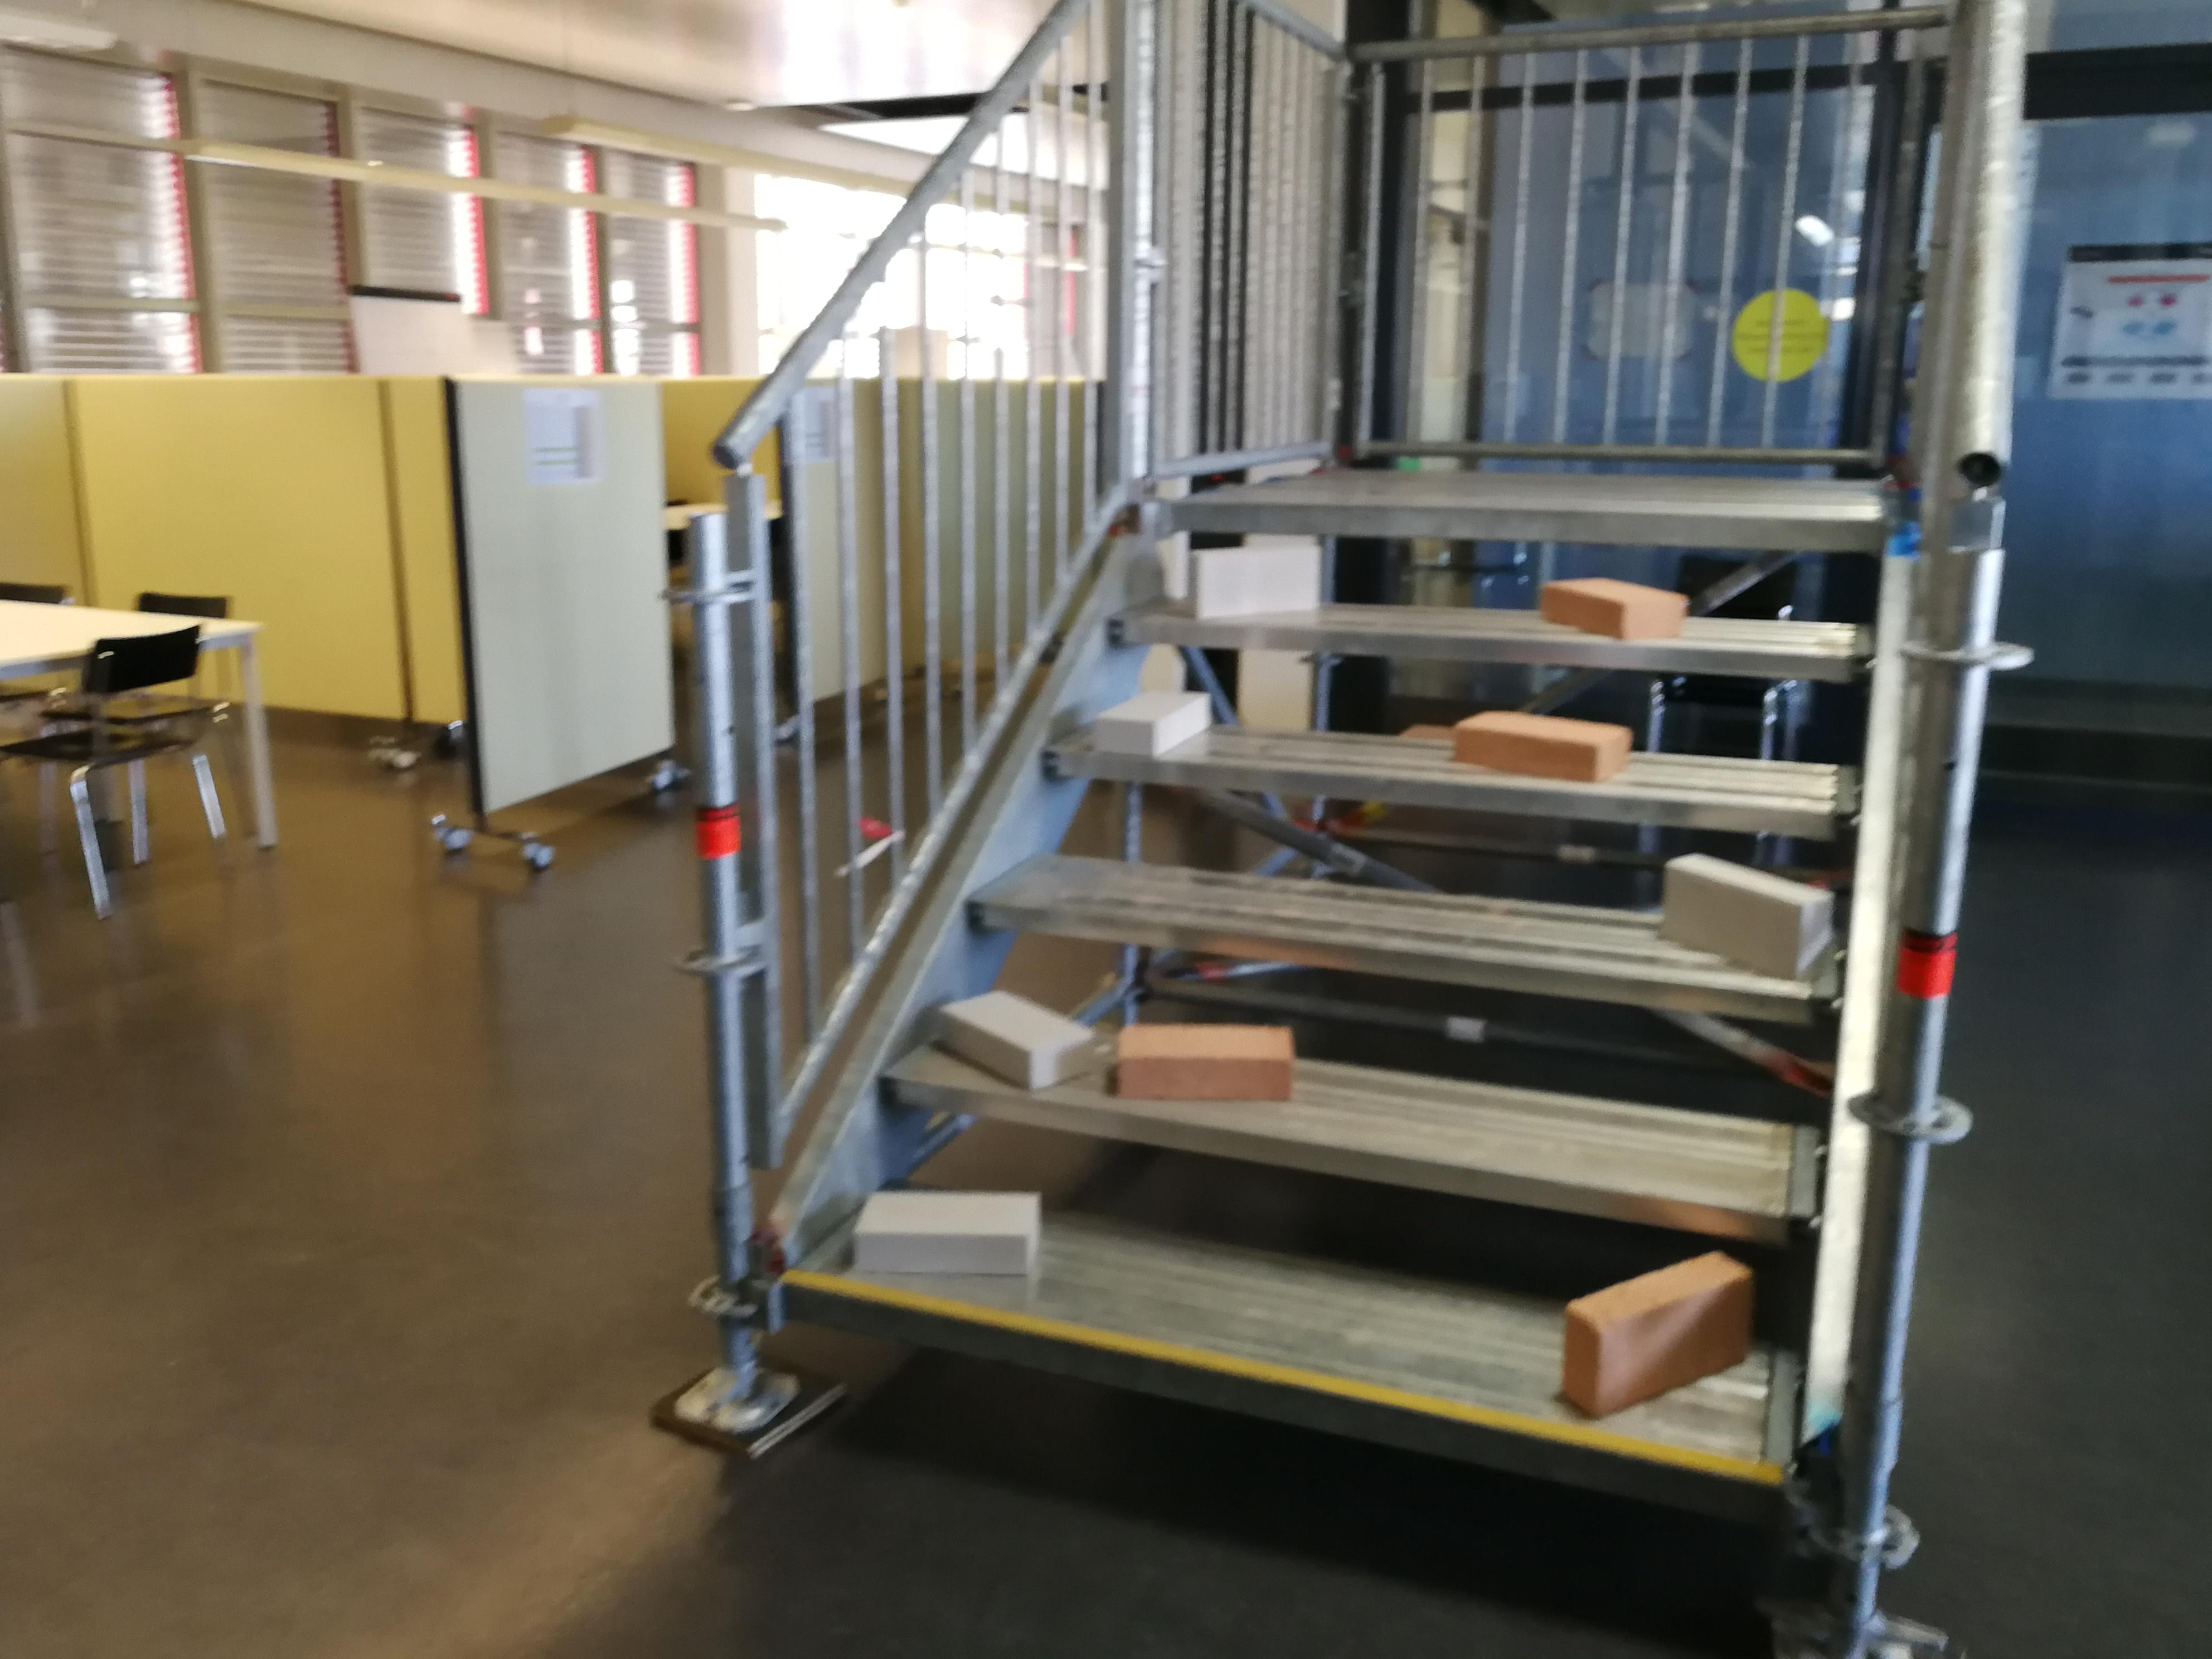brick: (1571, 1253, 1747, 1415), (1660, 856, 1832, 978), (850, 1195, 1035, 1276), (937, 995, 1090, 1086), (1118, 1025, 1289, 1101), (1454, 709, 1629, 779), (1541, 577, 1681, 638), (1191, 547, 1313, 612), (1089, 690, 1209, 751)
edge: (784, 1281, 1775, 1534), (880, 1072, 1817, 1249), (968, 892, 1841, 1026), (1040, 742, 1857, 857), (1108, 612, 1874, 687), (1158, 498, 1883, 551)
stairs: (648, 5, 2038, 1659)
steps: (772, 471, 1881, 1563)
